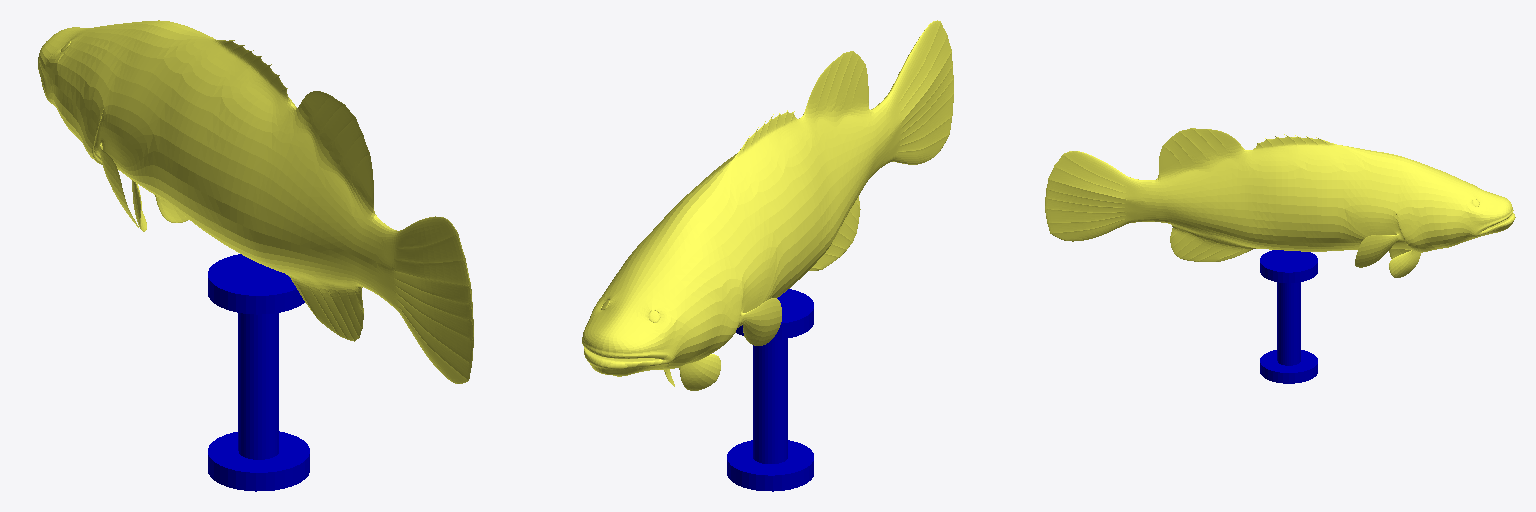
robot.urdf — physics:
<?xml version="1.0"?>
<robot name="physics">
  <link name="base_link">
    <visual>
      <geometry>
        <cylinder length="0.02" radius="0.05"/>
      </geometry>
      <material name="blue">
        <color rgba="0 0 .8 1"/>
      </material>
    </visual>
    <collision>
      <geometry>
        <cylinder length="0.02" radius="0.05"/>
      </geometry>
    </collision>
    <inertial>
      <mass value="0.01"/>
      <inertia ixx="0.000002" ixy="0.0" ixz="0.0" iyy="0.000002" iyz="0.0" izz="0.000002"/>
    </inertial>
  </link>

  <link name="grasp_cylinder">
    <visual>
      <geometry>
        <cylinder length="0.18" radius="0.02"/>
      </geometry>
      <material name="blue">
        <color rgba="0 0 .8 1"/>
      </material>
    </visual>
    <collision>
      <geometry>
        <cylinder length="0.12" radius="0.01"/>
      </geometry>
    </collision>
    <inertial>
      <mass value="0.01"/>
      <inertia ixx="0.000002" ixy="0.0" ixz="0.0" iyy="0.000002" iyz="0.0" izz="0.000002"/>
    </inertial>
  </link>

  <joint name="jfixed1" type="fixed">
    <parent link="base_link"/>
    <child link="grasp_cylinder"/>
    <origin xyz="0 0 0.09"/>
  </joint>


  <link name="top_cylinder">
    <visual>
      <geometry>
        <cylinder length="0.02" radius="0.05"/>
      </geometry>
      <material name="blue">
        <color rgba="0 0 .8 1"/>
      </material>
    </visual>
    <collision>
      <geometry>
        <cylinder length="0.02" radius="0.05"/>
      </geometry>
    </collision>
    <inertial>
      <mass value="0.01"/>
      <inertia ixx="0.000002" ixy="0.0" ixz="0.0" iyy="0.000002" iyz="0.0" izz="0.000002"/>
    </inertial>
  </link>

  <joint name="jfixed2" type="fixed">
    <parent link="grasp_cylinder"/>
    <child link="top_cylinder"/>
    <origin xyz="0 0 0.1"/>
  </joint>

  <link name="duck_stuff">
    <contact>
      <lateral_friction value="1.0"/>
      <rolling_friction value="0.0"/>
      <contact_cfm value="0.0"/>
      <contact_erp value="1.0"/>
    </contact>
    <inertial>
      <origin rpy="0 0 0" xyz="0.0 0 0.0"/>
       <mass value=".001"/>
       <inertia ixx="1e-9" ixy="0" ixz="0" iyy="1e-9" iyz="0" izz="1e-9"/>
    </inertial>
    <visual>
      <origin rpy="0 0 -1.57" xyz="0 0 -0.03"/>
      <geometry>
        <mesh filename="12266_murray_cod_v2_L2.obj" scale=".02 .02 .02"/>
      </geometry>
       <material name="yellow">
        <color rgba="1 1 0.4 1"/>
      </material>
    </visual>
    <collision>
      <origin rpy="0 0 0" xyz="0 0 0"/>
      <geometry>
	 	<mesh filename="12266_murray_cod_v2_L2.obj" scale=".02 .02 .02"/>
      </geometry>
    </collision>
  </link>

    <joint name="jfixed_stuff" type="fixed">
    <parent link="top_cylinder"/>
    <child link="duck_stuff"/>
    <origin rpy="0 0 0" xyz="0 0 0.01"/>
  </joint>


</robot>

--- Render facts (derived) ---
3 views of the same robot in one strip: view 1: azimuth 30°, elevation 25°; view 2: azimuth 150°, elevation 25°; view 3: azimuth 270°, elevation 25° (orthographic).
Robot: physics — 4 links, 3 joints (3 fixed); root link base_link; default pose: every joint at zero.
Links seen in each view (by area): view 1: duck_stuff, grasp_cylinder, base_link, top_cylinder; view 2: duck_stuff, grasp_cylinder, base_link, top_cylinder; view 3: duck_stuff, grasp_cylinder, top_cylinder, base_link.
Link boxes in pixels (x1=…): duck_stuff: x1=38, y1=20, x2=473, y2=383; grasp_cylinder: x1=238, y1=313, x2=278, y2=459; base_link: x1=208, y1=431, x2=309, y2=491; top_cylinder: x1=208, y1=254, x2=304, y2=314; duck_stuff: x1=582, y1=20, x2=953, y2=390; grasp_cylinder: x1=753, y1=339, x2=787, y2=463; base_link: x1=727, y1=440, x2=813, y2=491; top_cylinder: x1=736, y1=289, x2=813, y2=339; duck_stuff: x1=1045, y1=128, x2=1515, y2=277; grasp_cylinder: x1=1277, y1=282, x2=1300, y2=365; top_cylinder: x1=1260, y1=250, x2=1317, y2=282; base_link: x1=1260, y1=350, x2=1317, y2=383.
Bounding box of the posed robot: 0.1687 × 0.8067 × 0.4597 m (x, y, z).
1 mesh visuals loaded from 1 distinct referenced files (1 OBJ).
